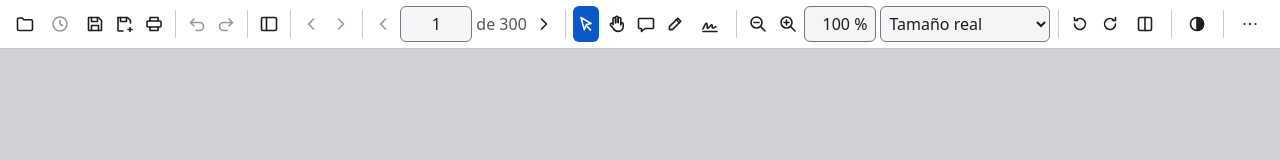
Campo de página › escribir 400 e Intro marca el campo como inválido, avisa y mantiene lo escrito
Replace the text in the field named "Número de página" with "400": [436, 24] box 400,6 -> 472,42
Then press Enter
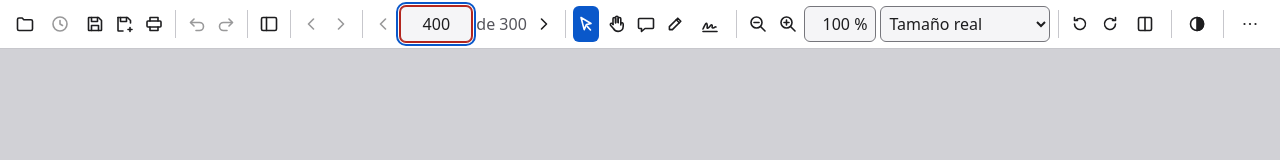
Check: the field named "Número de página" is marked as invalid, box 400,6 -> 472,42
